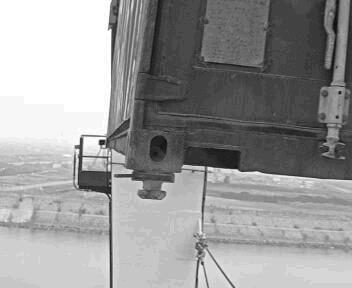twist_lock_1: (125, 166, 180, 206)
